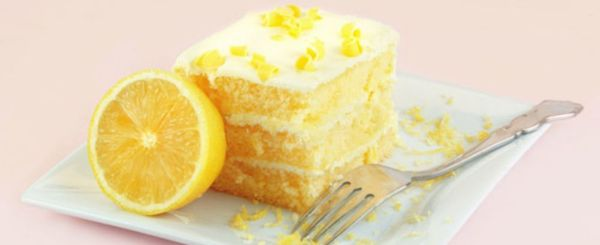taco: (86, 69, 227, 215)
